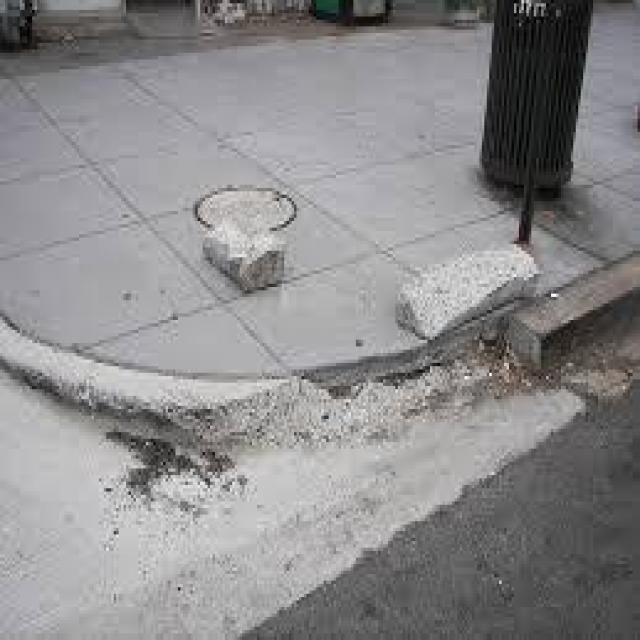curb: (81, 353, 409, 452), (498, 256, 634, 386)
